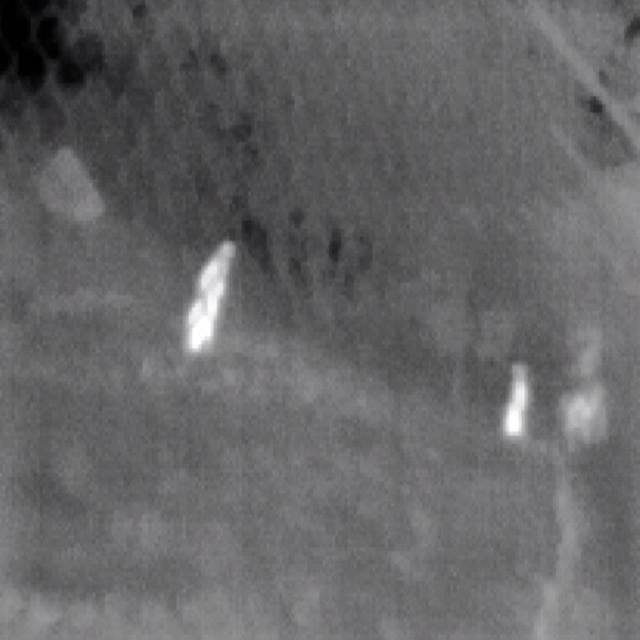cheetah: (188, 243, 235, 353), (503, 364, 528, 436)
